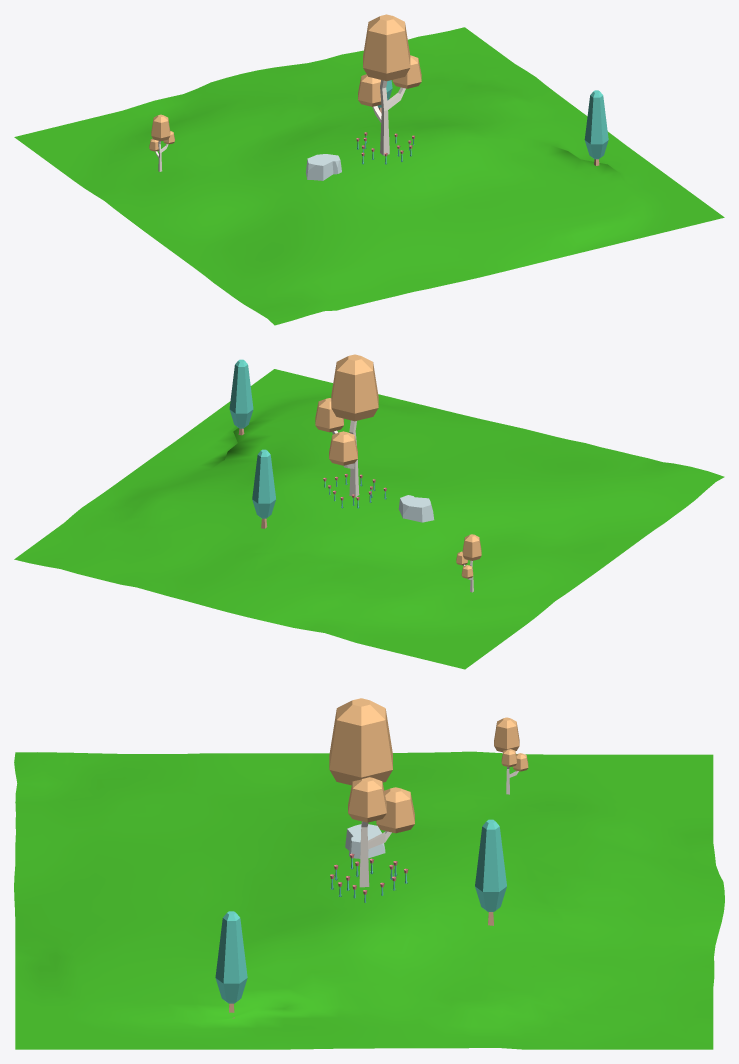
3 renders of one model, top to bottom at view 1: azimuth 30°, elevation 25°; view 2: azimuth 150°, elevation 25°; view 3: azimuth 270°, elevation 25°, orthographic. The views are drawn at different scales.
Parts seen in each view (by area): view 1: 平面, tree_thin_fall, tree_tall.001, stone_smallFlatC, tree_thin_fall.001; view 2: 平面, tree_thin_fall, tree_tall, tree_tall.001, stone_smallFlatC, tree_thin_fall.001; view 3: 平面, tree_thin_fall, tree_tall, tree_tall.001, tree_thin_fall.001, stone_smallFlatC.
Boxes of the visible parts, x1,y1,x2,y2 form: 平面: [14, 27, 724, 325]; tree_thin_fall: [358, 14, 421, 155]; tree_tall.001: [584, 90, 608, 165]; stone_smallFlatC: [305, 154, 341, 180]; tree_thin_fall.001: [149, 114, 174, 171]; 平面: [14, 369, 724, 669]; tree_thin_fall: [315, 354, 378, 497]; tree_tall: [252, 449, 275, 528]; tree_tall.001: [229, 359, 253, 435]; stone_smallFlatC: [398, 495, 434, 522]; tree_thin_fall.001: [456, 534, 481, 592]; 平面: [14, 751, 724, 1049]; tree_thin_fall: [329, 698, 414, 887]; tree_tall: [475, 819, 506, 925]; tree_tall.001: [215, 911, 247, 1018]; tree_thin_fall.001: [494, 717, 528, 794]; stone_smallFlatC: [345, 824, 385, 858].
Bounding box in the file's own units: 66.22 × 22.06 × 67.2.
